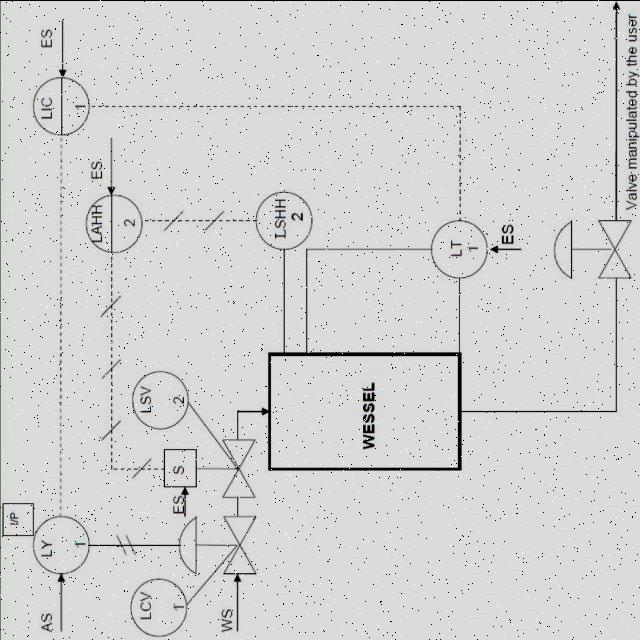Pneumatic-Diaphragm Gate Valve: (548, 209, 640, 292), (179, 510, 262, 576)
Solenoid Operated Gate Valve: (153, 434, 264, 496)
